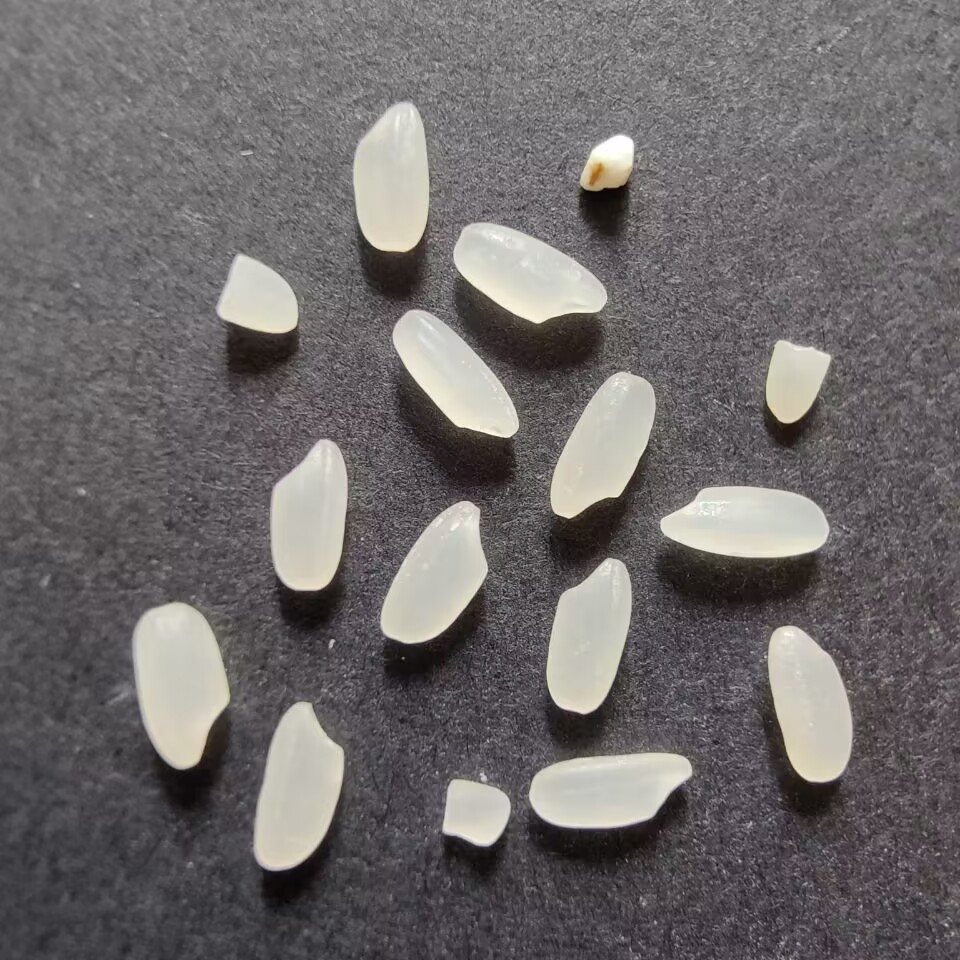broken: (213, 243, 302, 345), (758, 333, 837, 429), (436, 772, 516, 855), (575, 125, 645, 202)
rice: (126, 596, 236, 783), (246, 696, 352, 876), (388, 307, 527, 444), (449, 214, 614, 329), (544, 367, 659, 524), (378, 493, 490, 648), (518, 745, 697, 834), (764, 618, 858, 786), (540, 553, 636, 717), (261, 433, 354, 599), (650, 480, 833, 563), (347, 95, 437, 259)
